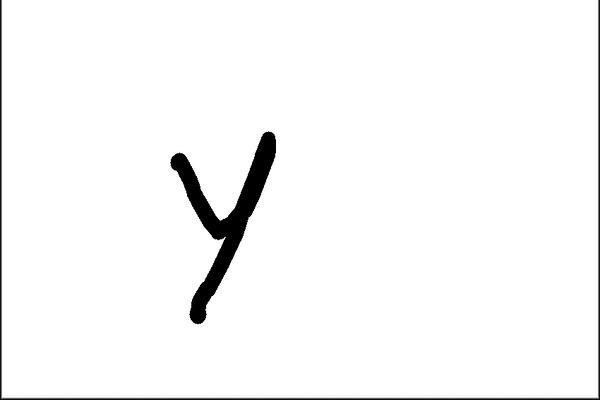Y: (158, 122, 317, 342)
